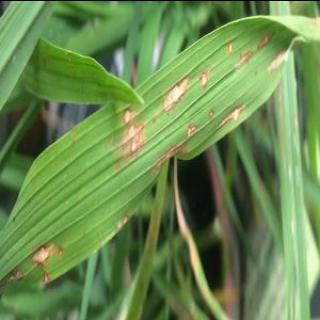Blast: (116, 99, 150, 160), (158, 72, 198, 114), (229, 32, 273, 63), (214, 98, 250, 124), (28, 242, 66, 266)
